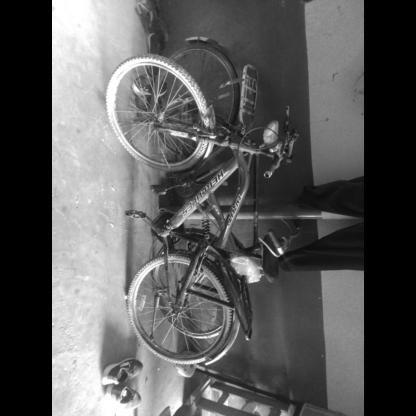Bicycle: (84, 37, 295, 378)
